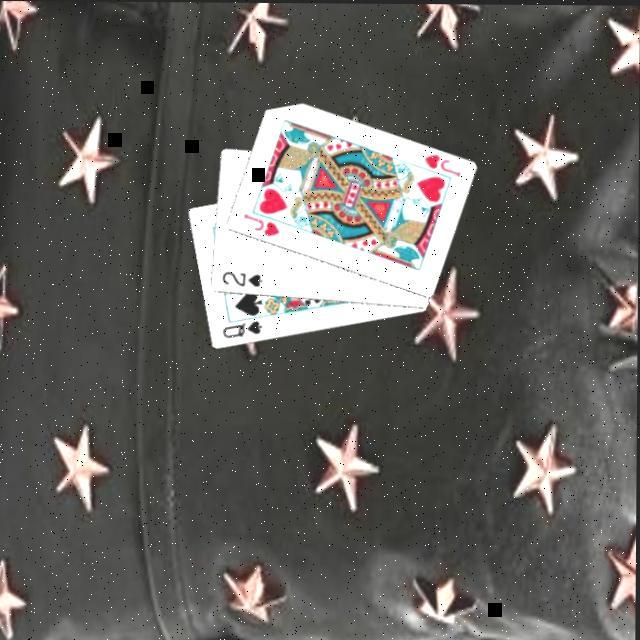2S: (221, 266, 267, 288)
JH: (242, 208, 284, 238), (422, 148, 464, 178)
QS: (222, 316, 268, 340)
